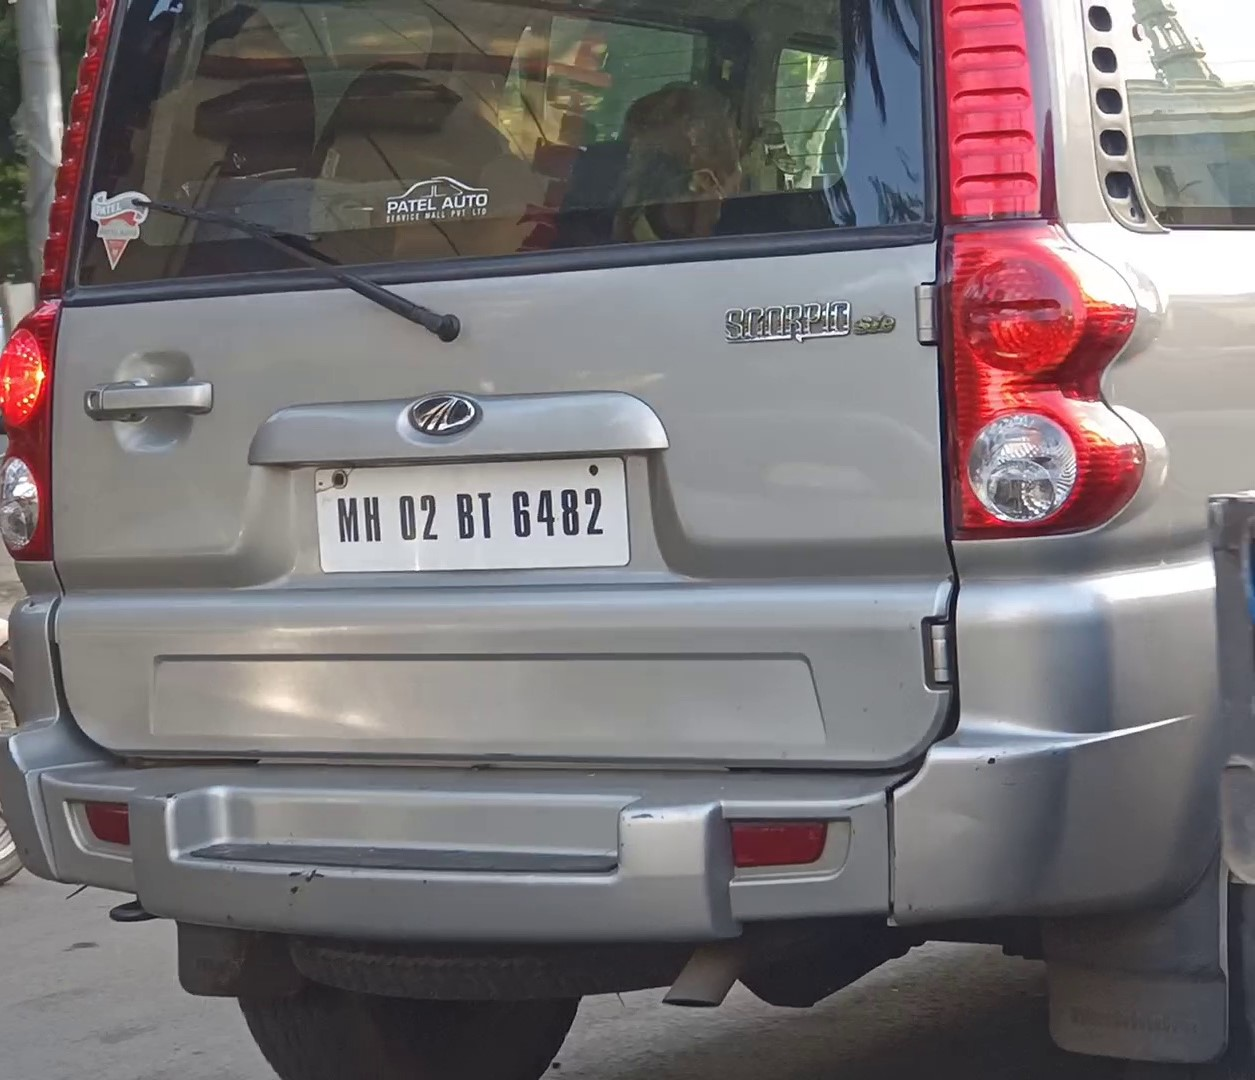MH02BT6482: (315, 457, 629, 569)
